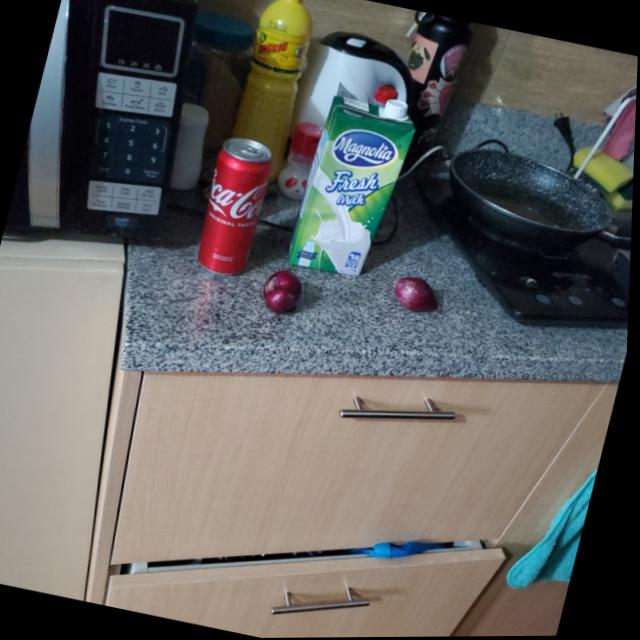coke: (190, 134, 280, 278)
milk: (288, 86, 422, 284)
onion: (261, 263, 311, 317), (388, 272, 443, 316)
